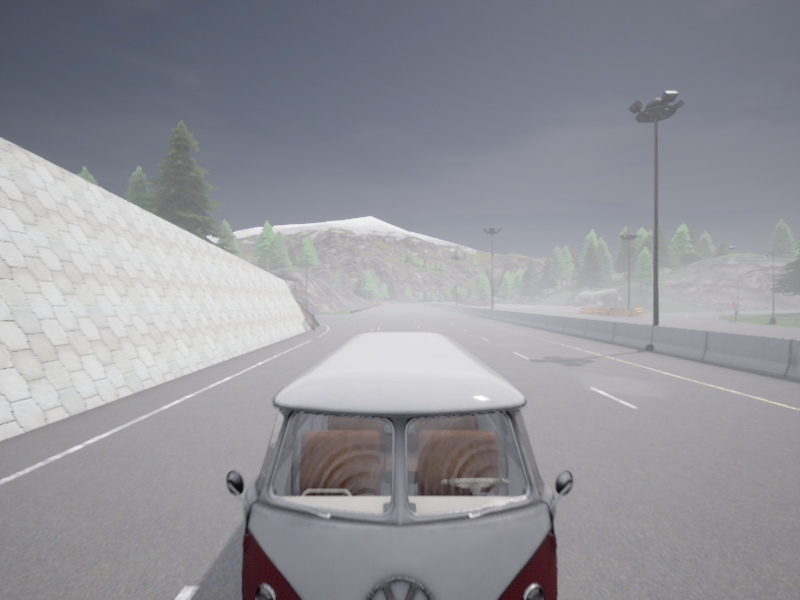vehicle: (226, 332, 572, 599), (458, 298, 466, 303)
